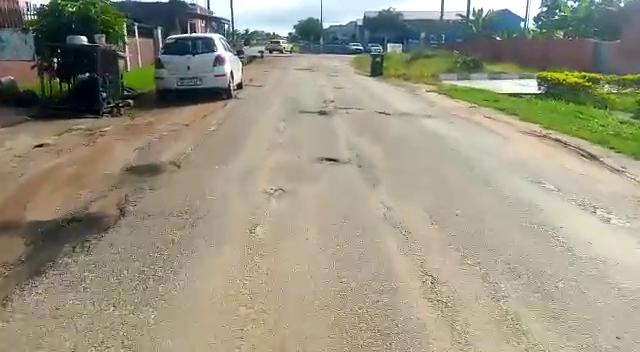pothole: (315, 156, 342, 165)
